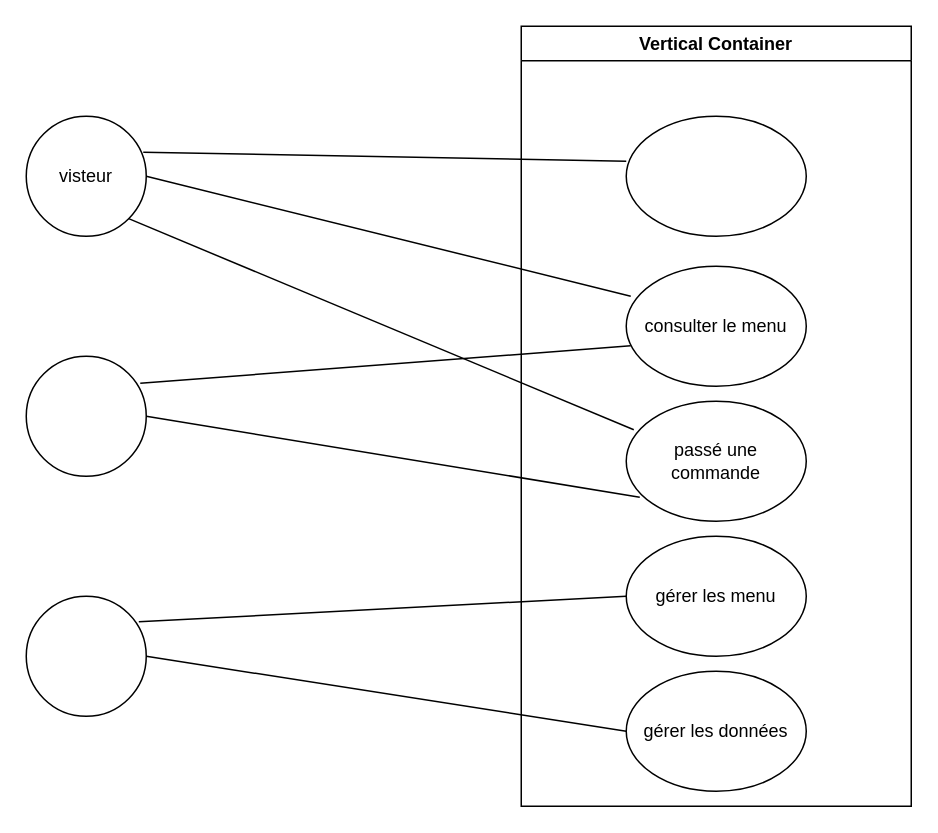
Image size: 938x833. Some labels were removed from this diagram. Each missing label, with the centre of its shape:
"administrateur" belongs at point (85, 655).
"client" belongs at point (85, 415).
"enregistrer ces données" belongs at point (715, 175).
